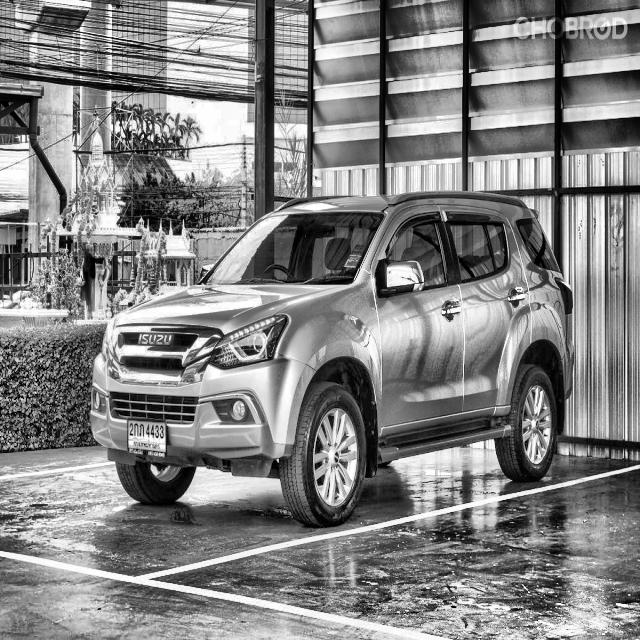license-plate: (124, 417, 169, 465)
